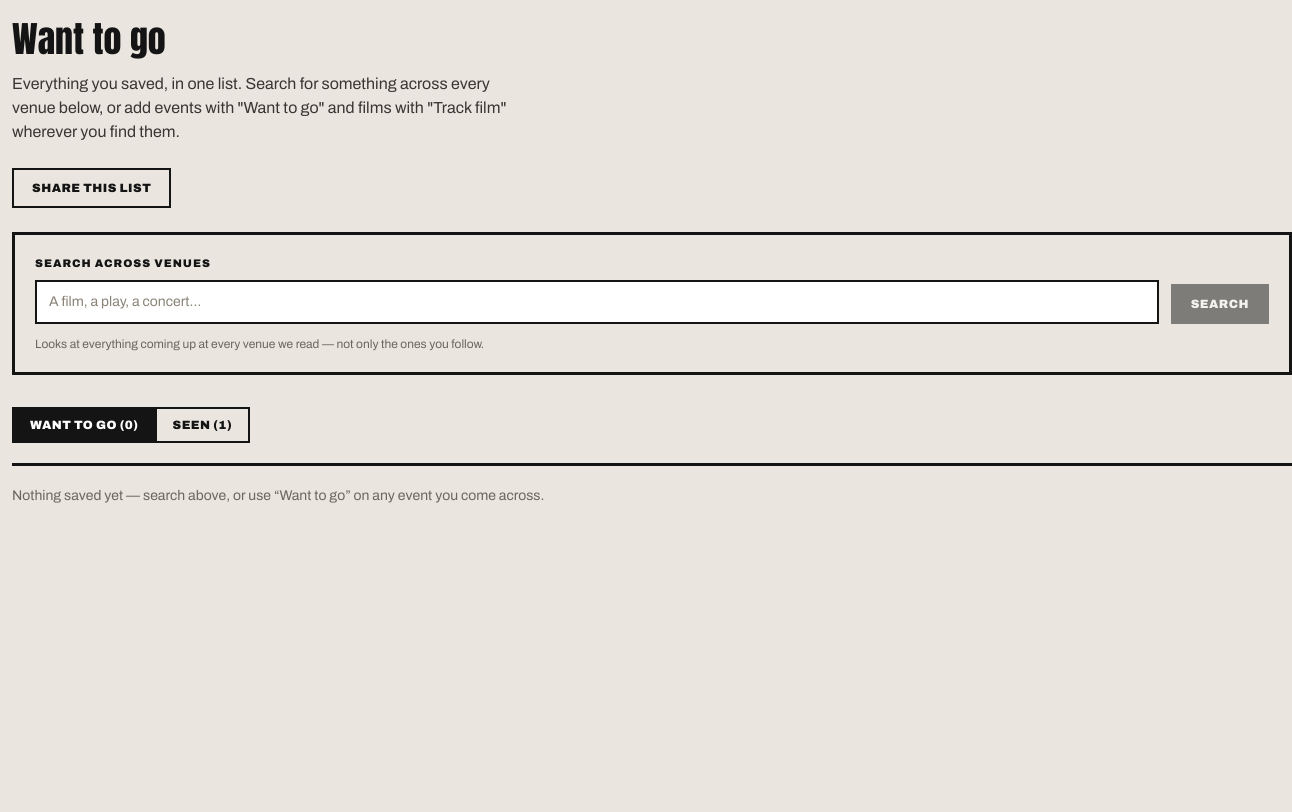
Test case: WantToGoSection — saved events carry no date › drops the screenings panel once an entry is marked seen
Step 1. Click the tab "Seen (1)" → [202, 424], box [154, 406, 250, 442]
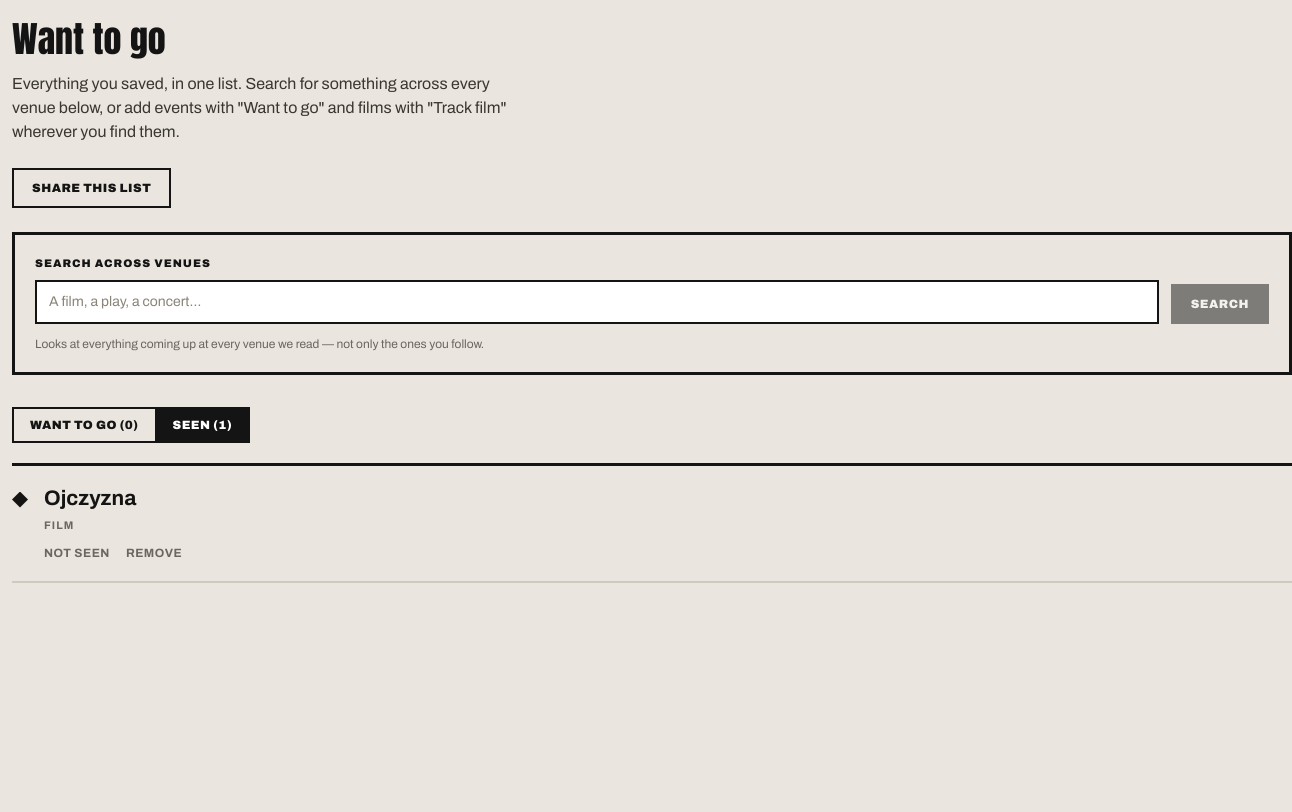
Result: the link "Ojczyzna" is shown at [44, 486, 136, 508]
